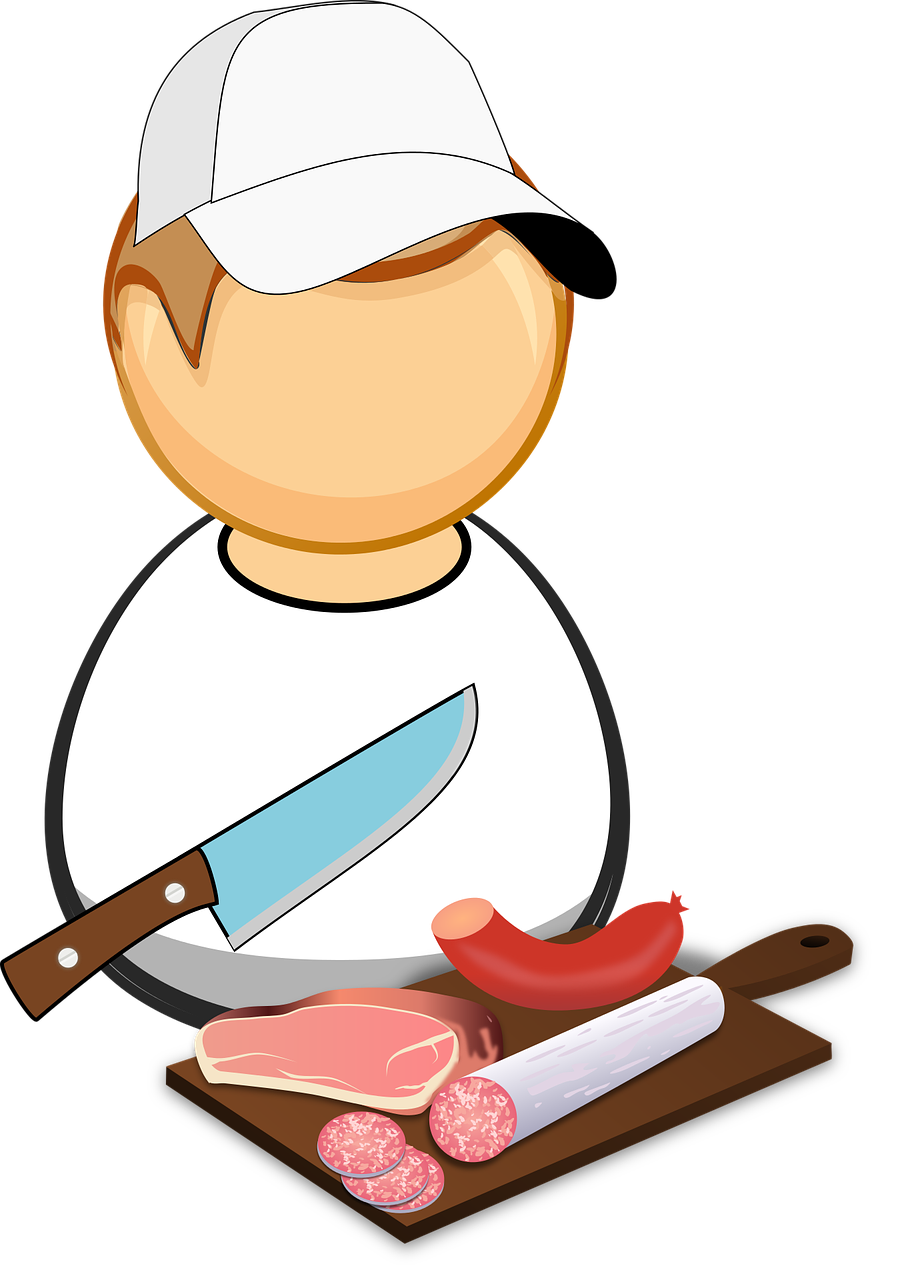knife: (0, 671, 491, 1022)
